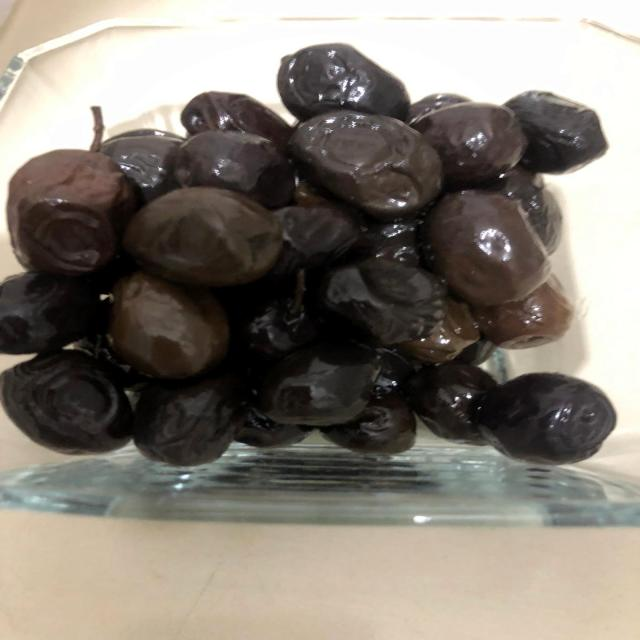olive: (42, 31, 614, 473), (128, 178, 287, 288), (295, 108, 445, 217), (464, 366, 616, 466), (244, 336, 400, 432)
